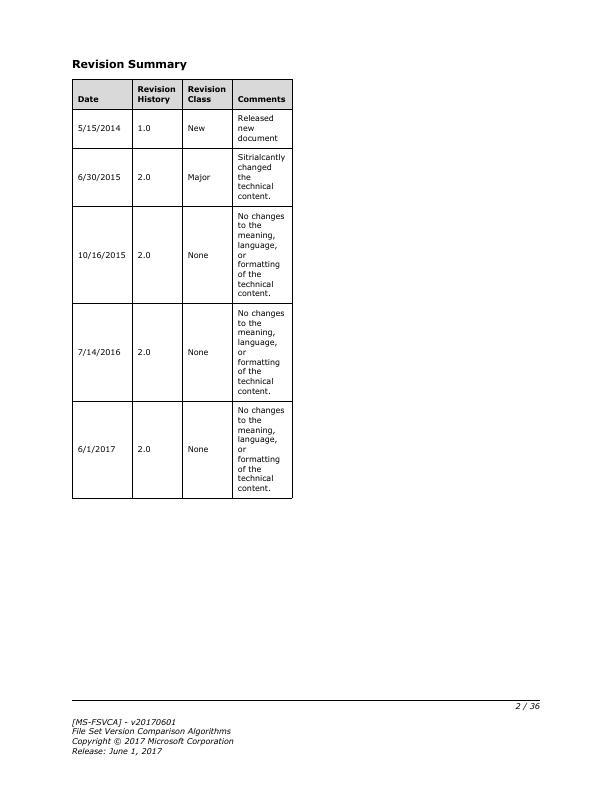table: (73, 79, 293, 499)
text: (68, 716, 236, 756), (70, 57, 190, 72)
